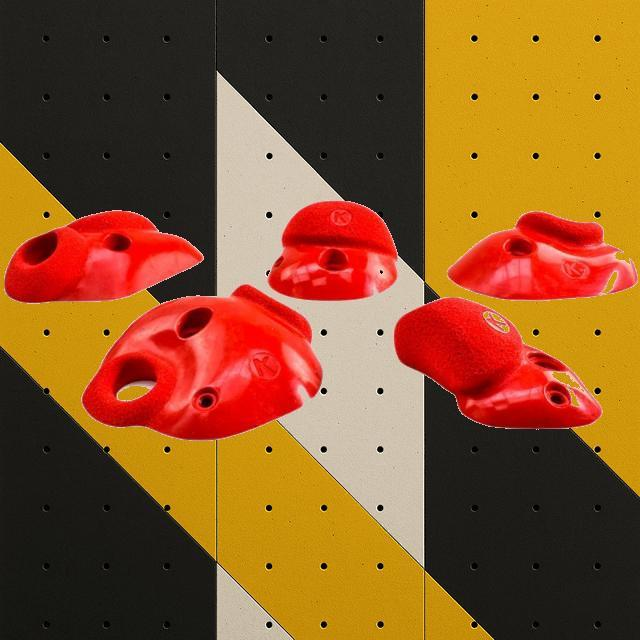Pocket: (81, 283, 323, 441), (393, 296, 602, 428), (5, 209, 204, 303), (447, 210, 638, 300), (266, 199, 398, 301)
